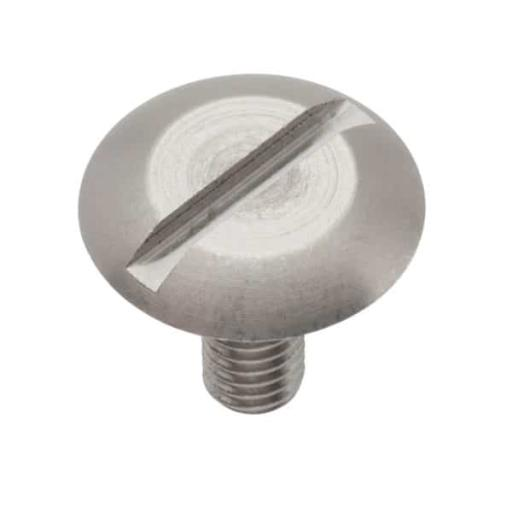Slotted: (78, 70, 428, 340)
